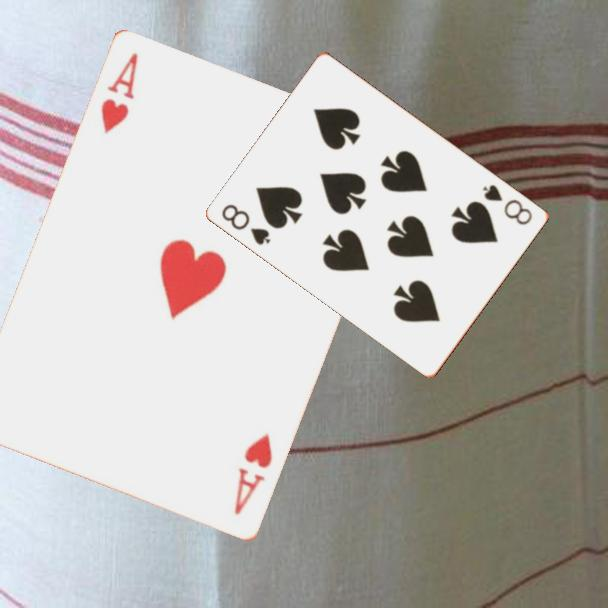h01: (231, 430, 276, 519), (97, 50, 141, 138)
s08: (218, 200, 274, 248), (479, 181, 536, 228)
